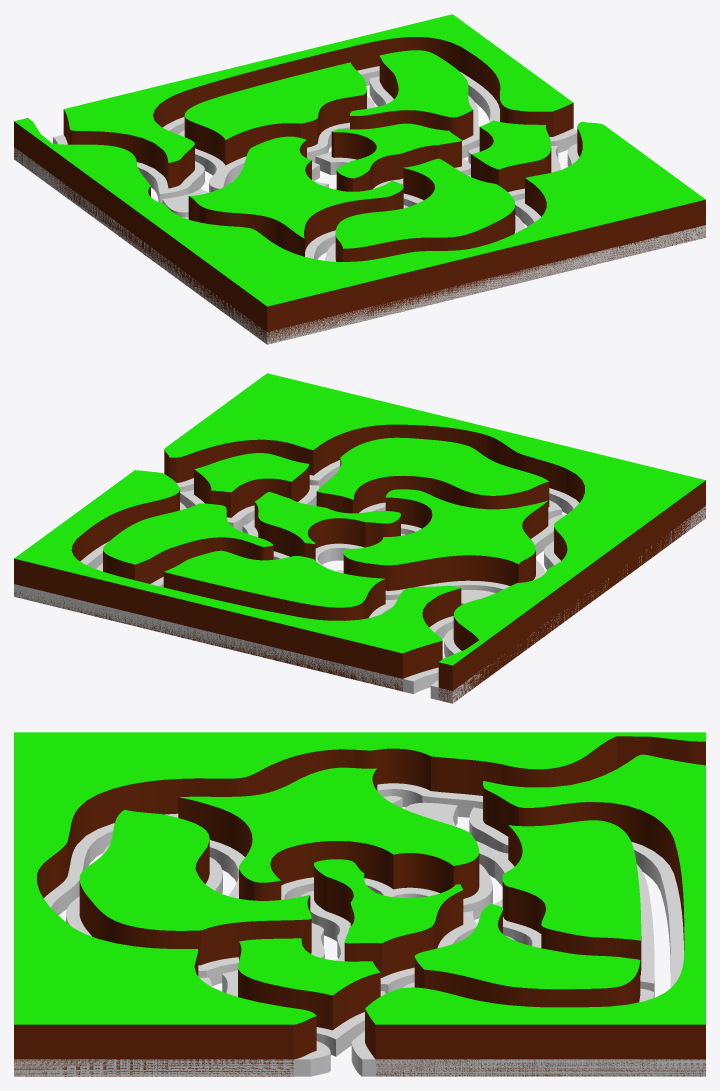
Rendered from maptest.fbx.
3 views of the same model, one above another, from view 1: azimuth 30°, elevation 25°; view 2: azimuth 150°, elevation 25°; view 3: azimuth 270°, elevation 25° (orthographic). The views are drawn at different scales.
Visible parts, largest first — view 1: canopy04, canopy01, canopy05, canopy06, canopy03, navisland07, canopy02, canopy08, canopy07, navisland01, navisland02, navisland03 (+3 smaller); view 2: canopy04, canopy01, canopy05, canopy06, canopy03, canopy02, navisland01, canopy08, canopy07, navisland07, navisland05, navisland09 (+1 smaller); view 3: canopy04, canopy01, canopy05, canopy06, canopy03, canopy02, navisland01, navisland07, canopy08, canopy07, navisland05, navisland02 (+4 smaller).
Part boxes in pixels (bbox=[...]): canopy04: bbox=[14, 118, 705, 344]; canopy01: bbox=[63, 14, 573, 188]; canopy05: bbox=[188, 136, 403, 256]; canopy06: bbox=[335, 158, 515, 261]; canopy03: bbox=[184, 62, 366, 165]; navisland07: bbox=[14, 143, 705, 344]; canopy02: bbox=[350, 50, 473, 140]; canopy08: bbox=[331, 123, 461, 191]; canopy07: bbox=[471, 120, 551, 191]; navisland01: bbox=[53, 66, 577, 203]; navisland02: bbox=[178, 96, 375, 192]; navisland03: bbox=[369, 76, 479, 158]; canopy04: bbox=[164, 373, 705, 703]; canopy01: bbox=[14, 470, 461, 691]; canopy05: bbox=[343, 489, 548, 590]; canopy06: bbox=[316, 437, 549, 513]; canopy03: bbox=[163, 550, 385, 620]; canopy02: bbox=[103, 503, 273, 583]; navisland01: bbox=[14, 502, 453, 694]; canopy08: bbox=[254, 492, 400, 560]; canopy07: bbox=[194, 453, 309, 517]; navisland07: bbox=[176, 460, 705, 703]; navisland05: bbox=[336, 514, 563, 599]; navisland09: bbox=[180, 485, 319, 531]; canopy04: bbox=[14, 732, 705, 1076]; canopy01: bbox=[365, 754, 705, 1076]; canopy05: bbox=[178, 767, 479, 900]; canopy06: bbox=[79, 809, 311, 965]; canopy03: bbox=[502, 820, 641, 975]; canopy02: bbox=[414, 904, 640, 1007]; navisland01: bbox=[351, 807, 705, 1076]; navisland07: bbox=[14, 783, 482, 1076]; canopy08: bbox=[314, 859, 463, 977]; canopy07: bbox=[238, 938, 380, 1030]; navisland05: bbox=[209, 796, 492, 919]; navisland02: bbox=[476, 841, 654, 997].
Bounding box in the file's own units: 18062 × 1500 × 18062.
